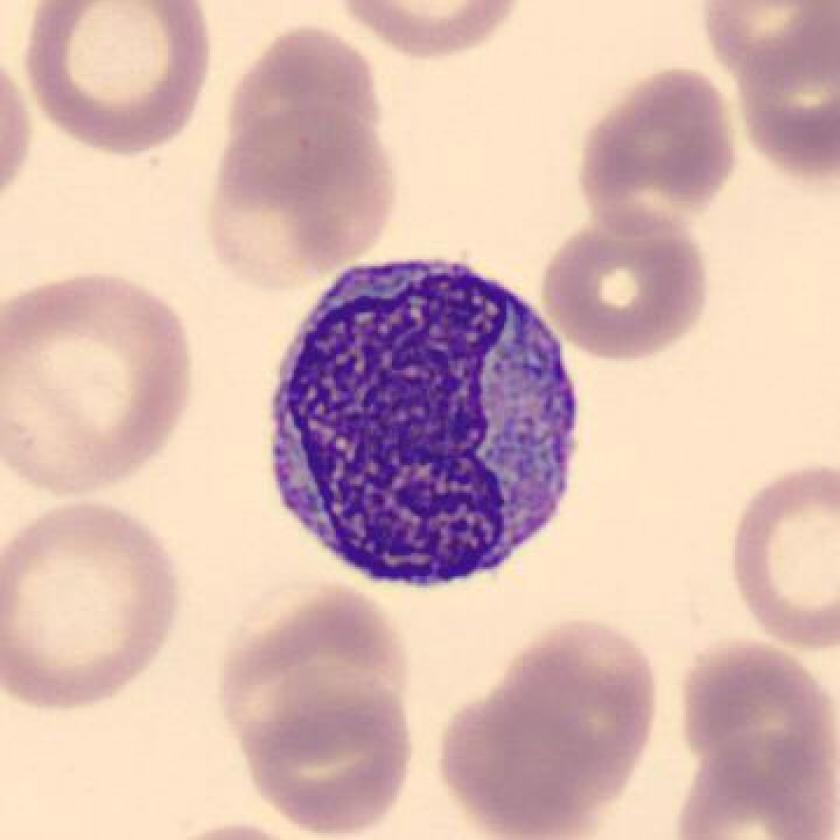monocyte: (255, 230, 596, 617)
